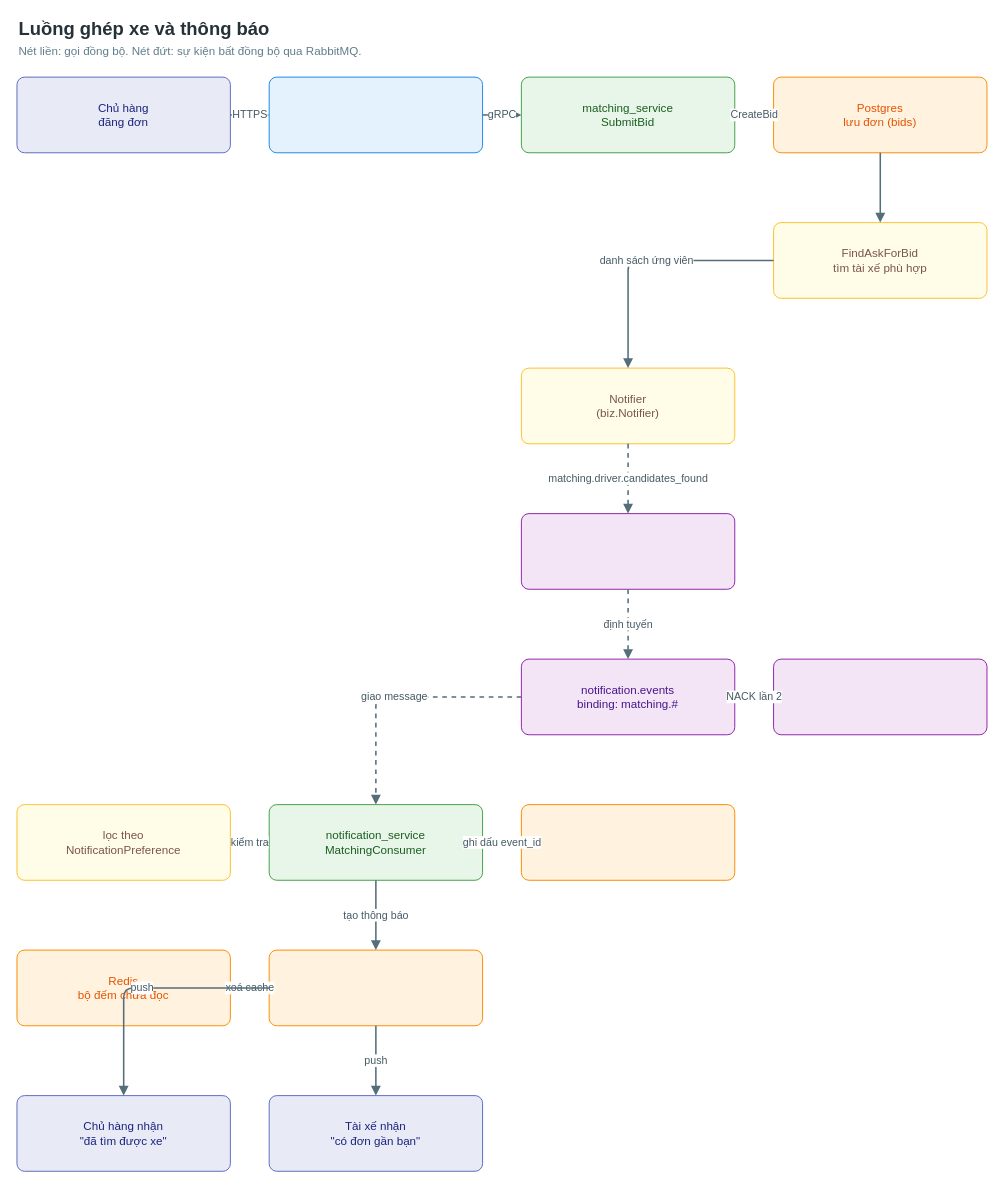
Image size: 1004x1188. Some labels were removed from this diagram. Each missing label, with the centre of its shape:
gateway_service POST /matching/bids: pixel 375 114
notification.events.dlq xử lý hỏng 2 lần: pixel 880 696
notifications hộp thư từng người: pixel 375 987
processed_events chống trùng (1 transaction): pixel 627 842
RabbitMQ logistic.events (topic): pixel 627 551
